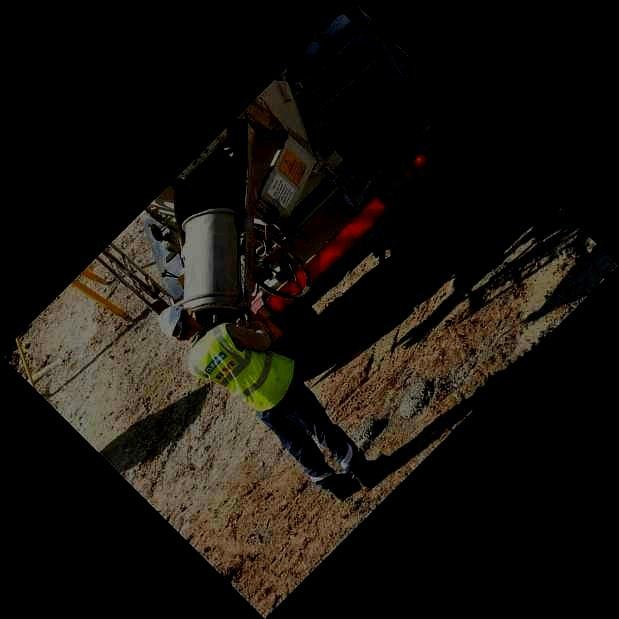helmet: (157, 305, 199, 342)
